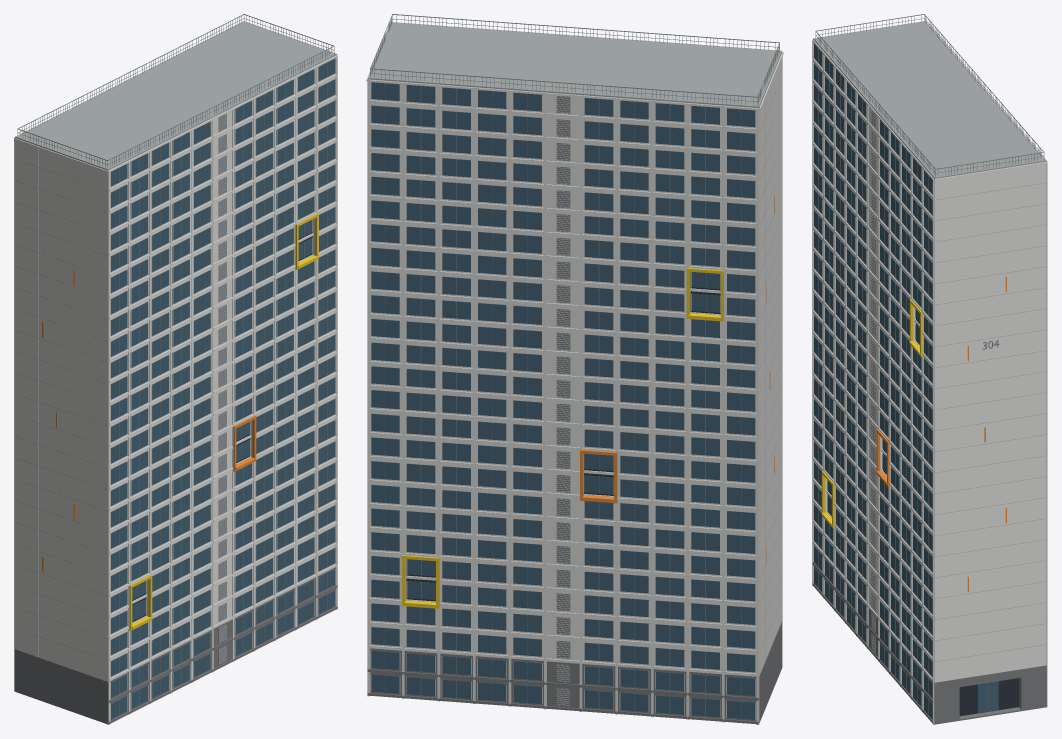
File: bespoke-songpa-helio-city-304.glb
3 renders of one model, left to right at view 1: azimuth 30°, elevation 25°; view 2: azimuth 150°, elevation 25°; view 3: azimuth 270°, elevation 25°, orthographic. The views are drawn at different scales.
Visible parts, largest first — view 1: Helio304_editable_Helio304_white_slab_frames, Helio304_editable_Helio304_dark_blue_grey_glazing, Helio304_editable_Helio304_low_roof_deck, Helio304_editable_Helio304_grey_service_grille, Helio304_editable_Helio304_dark_grey_twofloor_base, Helio304_editable_Helio304_blankwall_grey_panels, Helio304_editable_Helio304_yellow_projecting_rectangular_fra, Helio304_editable_Helio304_orange_narrow_accent; view 2: Helio304_editable_Helio304_dark_blue_grey_glazing, Helio304_editable_Helio304_white_slab_frames, Helio304_editable_Helio304_low_roof_deck, Helio304_editable_Helio304_grey_service_grille, Helio304_editable_Helio304_dark_grey_twofloor_base, Helio304_editable_Helio304_blankwall_grey_panels, Helio304_editable_Helio304_yellow_projecting_rectangular_fra, Helio304_editable_Helio304_orange_narrow_accent, Helio304_editable_Helio304_deep_shaded_frame_recess; view 3: Helio304_editable_Helio304_white_slab_frames, Helio304_editable_Helio304_dark_blue_grey_glazing, Helio304_editable_Helio304_low_roof_deck, Helio304_editable_Helio304_grey_service_grille, Helio304_editable_Helio304_dark_grey_twofloor_base, Helio304_editable_Helio304_blankwall_grey_panels, Helio304_editable_Helio304_deep_shaded_frame_recess, Helio304_editable_Helio304_yellow_projecting_rectangular_fra, Helio304_editable_Helio304_orange_narrow_accent.
Part boxes in pixels (<box>): Helio304_editable_Helio304_white_slab_frames: <box>14,54,337,724</box>; Helio304_editable_Helio304_dark_blue_grey_glazing: <box>110,58,335,719</box>; Helio304_editable_Helio304_low_roof_deck: <box>15,21,336,170</box>; Helio304_editable_Helio304_grey_service_grille: <box>15,14,334,715</box>; Helio304_editable_Helio304_dark_grey_twofloor_base: <box>15,567,337,724</box>; Helio304_editable_Helio304_blankwall_grey_panels: <box>38,113,226,663</box>; Helio304_editable_Helio304_yellow_projecting_rectangular_fra: <box>129,213,318,630</box>; Helio304_editable_Helio304_orange_narrow_accent: <box>42,269,256,571</box>; Helio304_editable_Helio304_dark_blue_grey_glazing: <box>371,82,755,719</box>; Helio304_editable_Helio304_white_slab_frames: <box>366,23,783,724</box>; Helio304_editable_Helio304_low_roof_deck: <box>368,22,781,107</box>; Helio304_editable_Helio304_grey_service_grille: <box>370,14,782,718</box>; Helio304_editable_Helio304_dark_grey_twofloor_base: <box>367,622,781,724</box>; Helio304_editable_Helio304_blankwall_grey_panels: <box>557,96,765,705</box>; Helio304_editable_Helio304_yellow_projecting_rectangular_fra: <box>402,268,723,608</box>; Helio304_editable_Helio304_orange_narrow_accent: <box>580,195,774,563</box>; Helio304_editable_Helio304_deep_shaded_frame_recess: <box>406,272,720,601</box>; Helio304_editable_Helio304_white_slab_frames: <box>812,23,1047,724</box>; Helio304_editable_Helio304_dark_blue_grey_glazing: <box>814,44,998,718</box>; Helio304_editable_Helio304_low_roof_deck: <box>813,21,1046,178</box>; Helio304_editable_Helio304_grey_service_grille: <box>815,14,1045,714</box>; Helio304_editable_Helio304_dark_grey_twofloor_base: <box>812,545,1046,724</box>; Helio304_editable_Helio304_blankwall_grey_panels: <box>871,110,875,652</box>; Helio304_editable_Helio304_deep_shaded_frame_recess: <box>827,319,1018,716</box>; Helio304_editable_Helio304_yellow_projecting_rectangular_fra: <box>821,299,922,528</box>; Helio304_editable_Helio304_orange_narrow_accent: <box>876,277,1006,591</box>.
Size of the model in its own units: 45.04 by 73.8 by 28.39.
